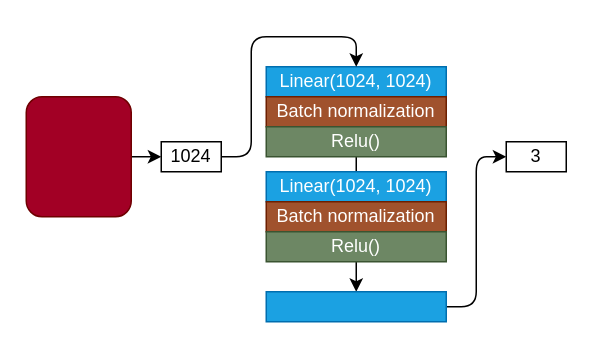
This 593x348 diagram has some shape labels left out. Here are the shapes that lost their labels. From the top down, the box of each, then its label:
(25, 95, 131, 217): RestNet20 Feature Extraction
(265, 290, 446, 322): Linear(1024, 3)
